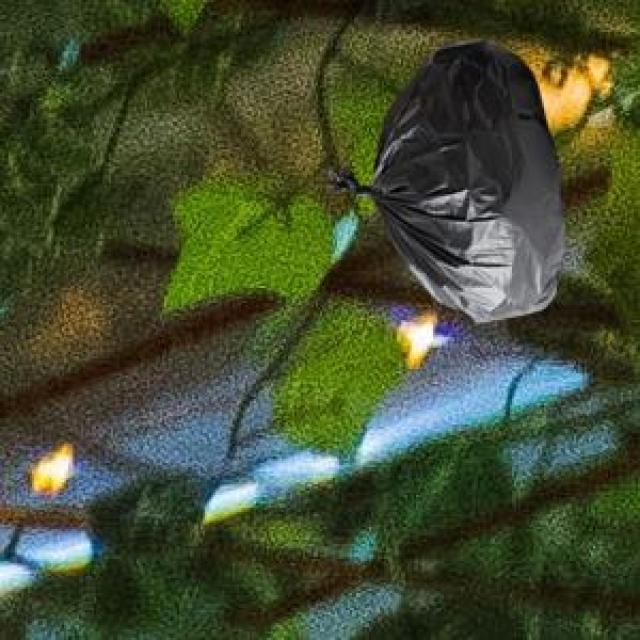waste: (356, 41, 562, 322)
